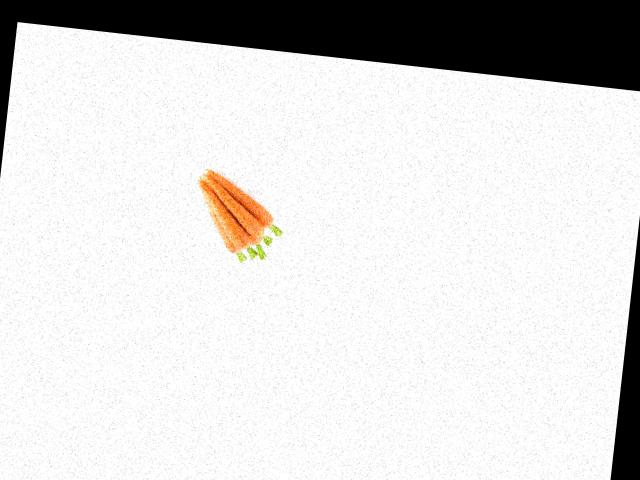carrot: (203, 163, 284, 227)
